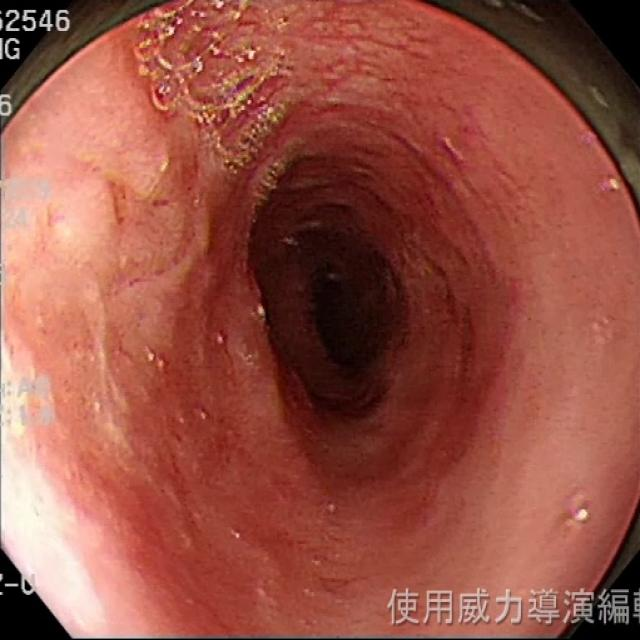A: (35, 115, 213, 423), (308, 11, 415, 143)
E: (271, 204, 402, 413)
S: (388, 588, 640, 629), (3, 8, 73, 35), (3, 375, 53, 402), (2, 179, 51, 204), (2, 403, 51, 428), (3, 572, 38, 599), (2, 204, 29, 231), (3, 36, 23, 63), (2, 95, 14, 118)
T: (132, 3, 296, 192)
